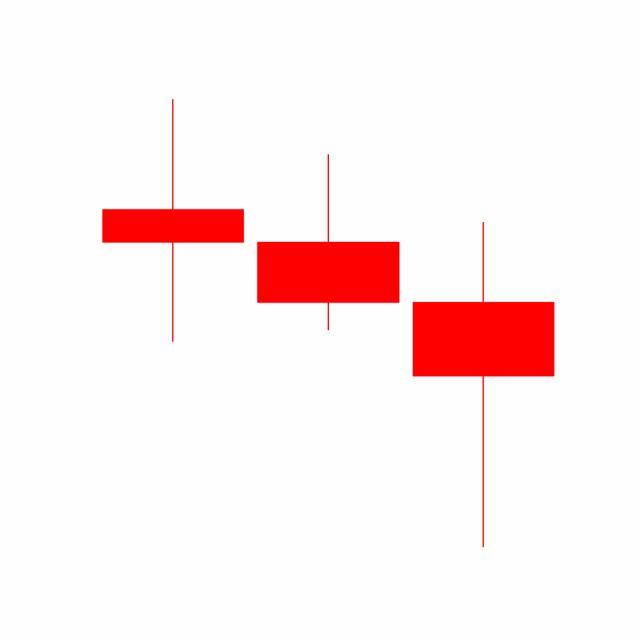Spinning Top: (406, 219, 562, 552)
